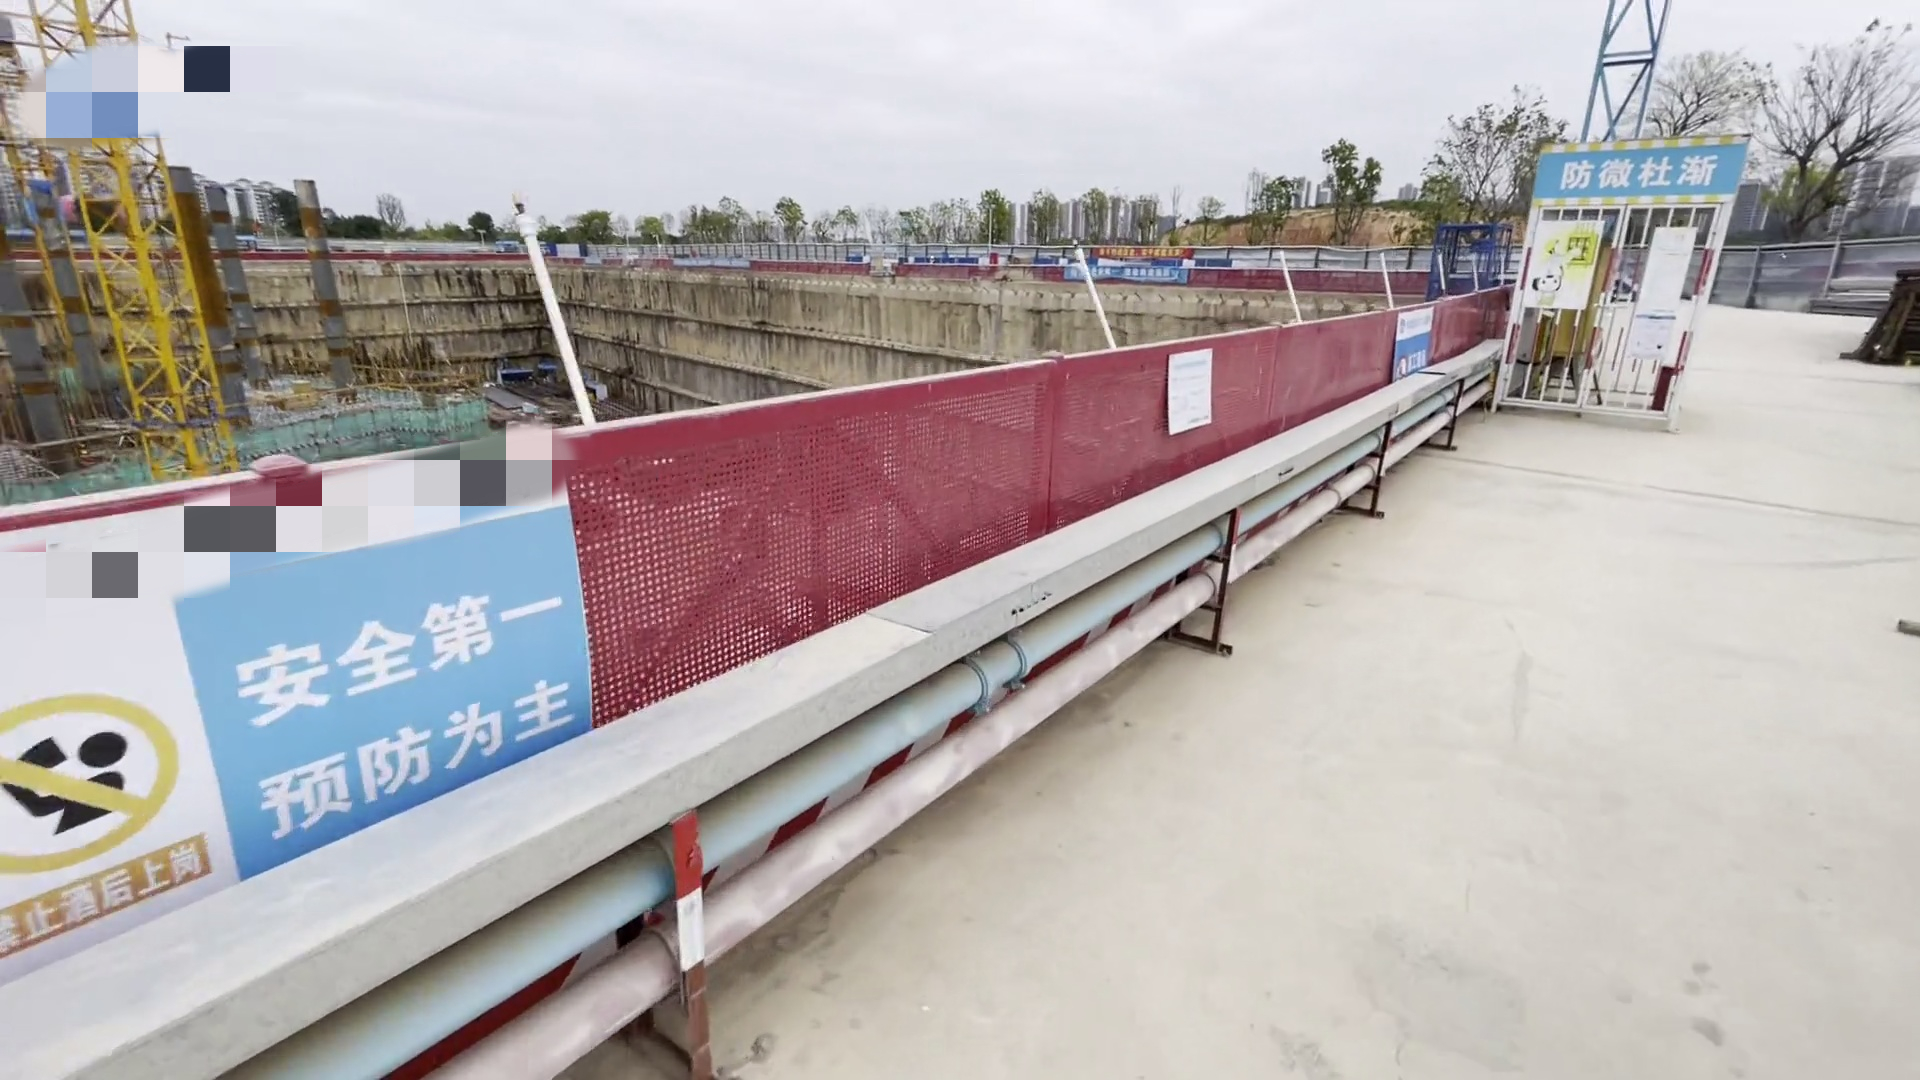fence: (1, 287, 1505, 980)
slogan: (219, 583, 579, 839), (1559, 152, 1745, 216), (1087, 247, 1185, 284)
